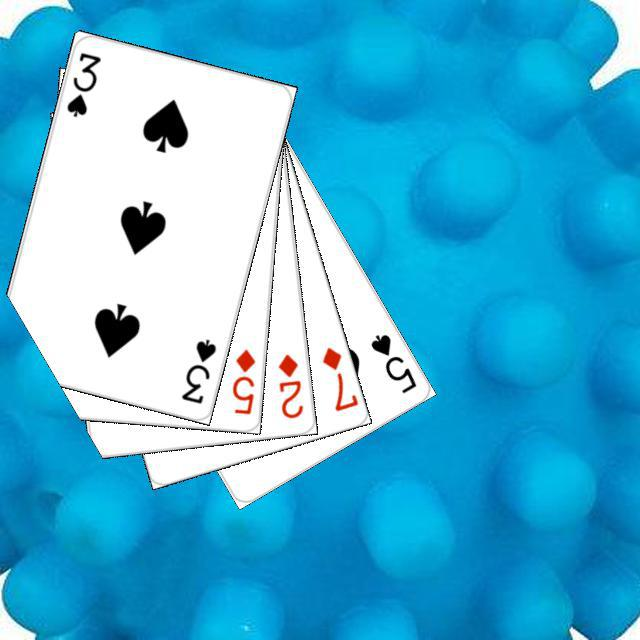2d: (273, 349, 305, 420)
3s: (176, 334, 218, 406), (61, 47, 103, 119)
5d: (227, 344, 257, 416)
5s: (365, 329, 418, 396)
7d: (317, 342, 358, 413)
